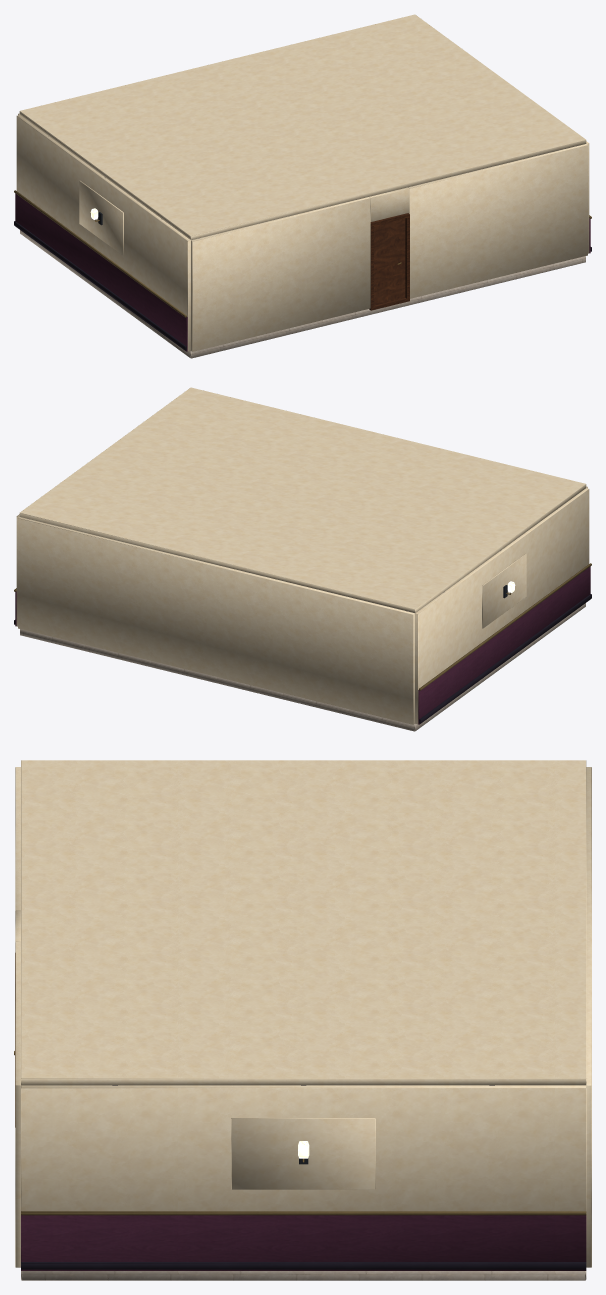
File: explore3d__central_control.glb
3 views of the same model, one above another, from view 1: azimuth 30°, elevation 25°; view 2: azimuth 150°, elevation 25°; view 3: azimuth 270°, elevation 25° (orthographic). The views are drawn at different scales.
Visible parts, largest first — view 1: Rebuilt_central_control; view 2: Rebuilt_central_control; view 3: Rebuilt_central_control.
Part boxes in pixels (x1=…): Rebuilt_central_control: x1=14, y1=14, x2=591, y2=358; Rebuilt_central_control: x1=14, y1=387, x2=591, y2=731; Rebuilt_central_control: x1=14, y1=760, x2=591, y2=1280.
Bounding box in the file's own units: 12.79 × 3.56 × 9.2.
Materials: 16 (14 with a texture image).
